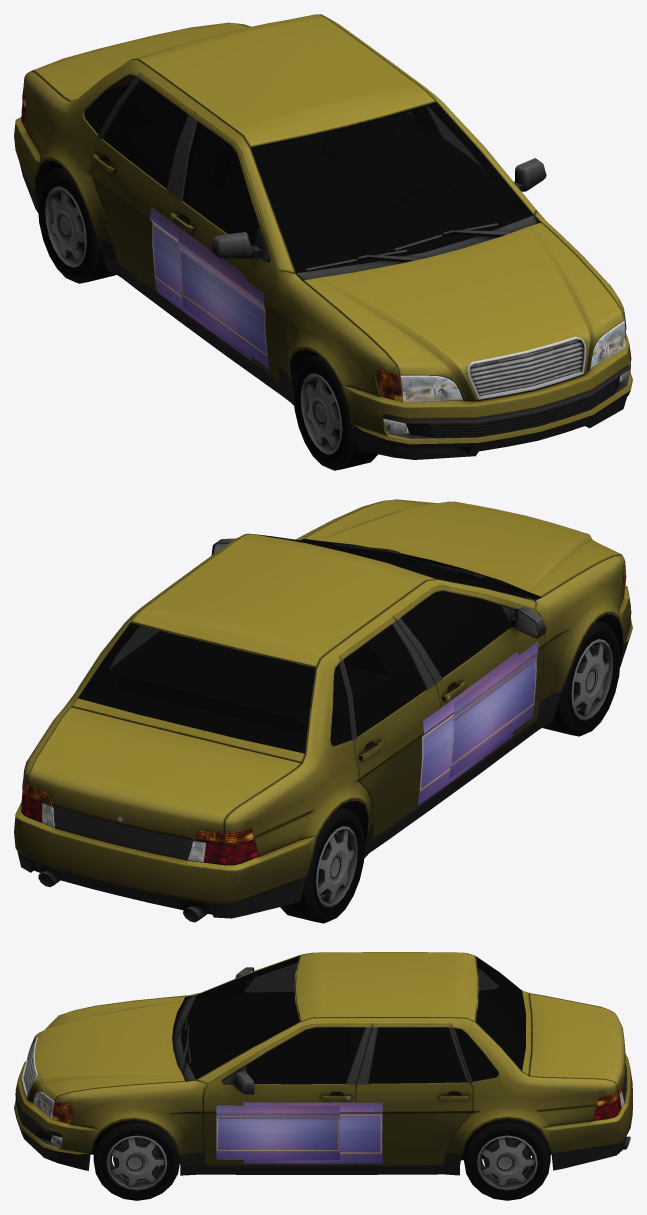
Rendered from small.glb.
The picture shows the model from 3 angles, top to bottom: view 1: azimuth 30°, elevation 25°; view 2: azimuth 150°, elevation 25°; view 3: azimuth 270°, elevation 25°; orthographic projection. The views are drawn at different scales.
Visible parts, largest first — view 1: Sedan Body, sRight, Wheel_A002, Wheel_A003, dsRight; view 2: Sedan Body, sRight, Wheel_A003, Wheel_A002, dsRight; view 3: Sedan Body, sLeft, Wheel_A001, Wheel_A, dsLeft.
Part boxes in pixels (left/top/right/bottom): Sedan Body: left=14, top=14, right=632, bottom=459; sRight: left=178, top=232, right=269, bottom=368; Wheel_A002: left=293, top=354, right=377, bottom=470; Wheel_A003: left=38, top=167, right=115, bottom=283; dsRight: left=150, top=206, right=251, bottom=360; Sedan Body: left=14, top=499, right=632, bottom=922; sRight: left=449, top=641, right=538, bottom=778; Wheel_A003: left=280, top=807, right=364, bottom=923; Wheel_A002: left=543, top=620, right=620, bottom=736; dsRight: left=417, top=651, right=518, bottom=805; Sedan Body: left=14, top=952, right=632, bottom=1175; sLeft: left=216, top=1105, right=339, bottom=1159; Wheel_A001: left=464, top=1119, right=550, bottom=1200; Wheel_A: left=93, top=1120, right=179, bottom=1200; dsLeft: left=243, top=1102, right=382, bottom=1163.
Bounding box in the file's own units: 1.94 × 1.34 × 4.36.
5 materials, 4 textured.
